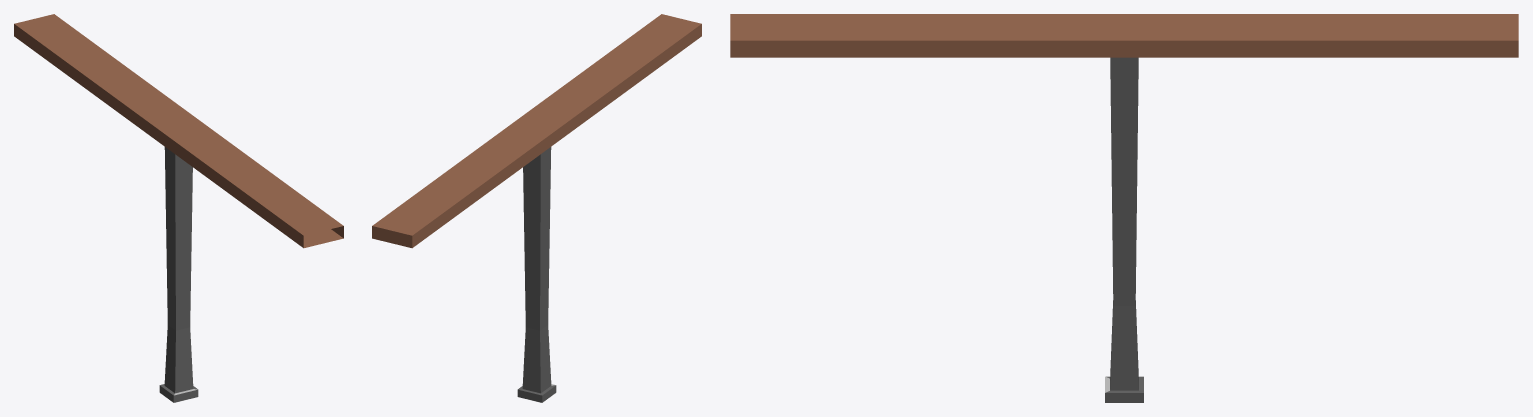
Rendered from M_Fence_End_1.fbx.
The picture shows the model from 3 angles, left to right: view 1: azimuth 30°, elevation 25°; view 2: azimuth 150°, elevation 25°; view 3: azimuth 270°, elevation 25°; orthographic projection. The views are drawn at different scales.
Visible parts, largest first — view 1: M_Fence_End_1; view 2: M_Fence_End_1; view 3: M_Fence_End_1.
Boxes of the visible parts, <box> form: M_Fence_End_1: <box>14,14,343,402</box>; M_Fence_End_1: <box>372,14,701,402</box>; M_Fence_End_1: <box>730,14,1518,402</box>.
Bounding box in the file's own units: 64 × 411 × 800.
